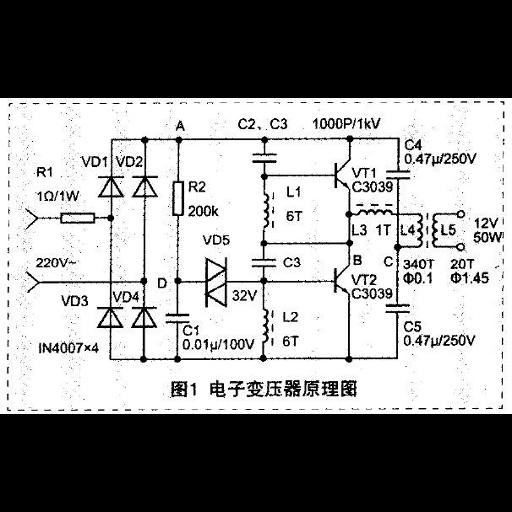capacitor: (249, 148, 279, 167), (382, 301, 414, 316), (249, 256, 280, 270), (164, 310, 191, 326), (385, 167, 412, 182)
firstresistance: (168, 177, 187, 220), (58, 209, 99, 228)
inductor: (258, 189, 271, 232), (350, 207, 397, 218), (259, 302, 270, 347)
npn: (326, 260, 352, 304), (328, 156, 353, 195)
seconddiode: (91, 172, 128, 201), (91, 303, 126, 333), (132, 172, 162, 204), (128, 303, 160, 333)
transformer: (416, 211, 439, 249)
